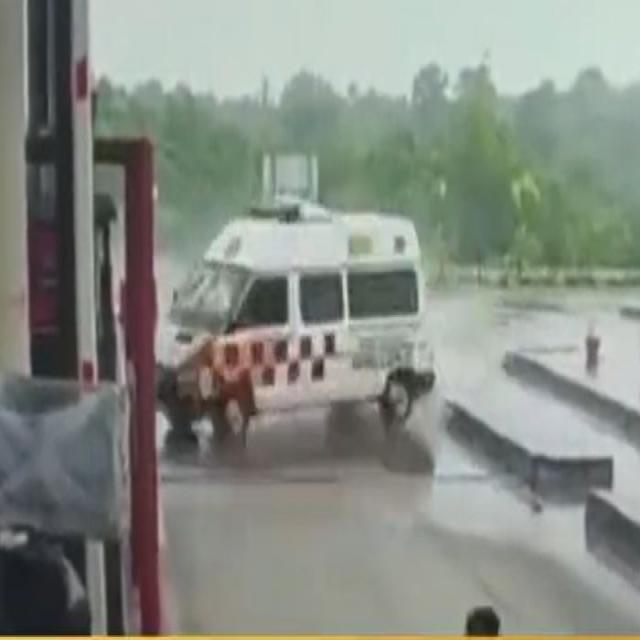emergency: (158, 155, 435, 436)
